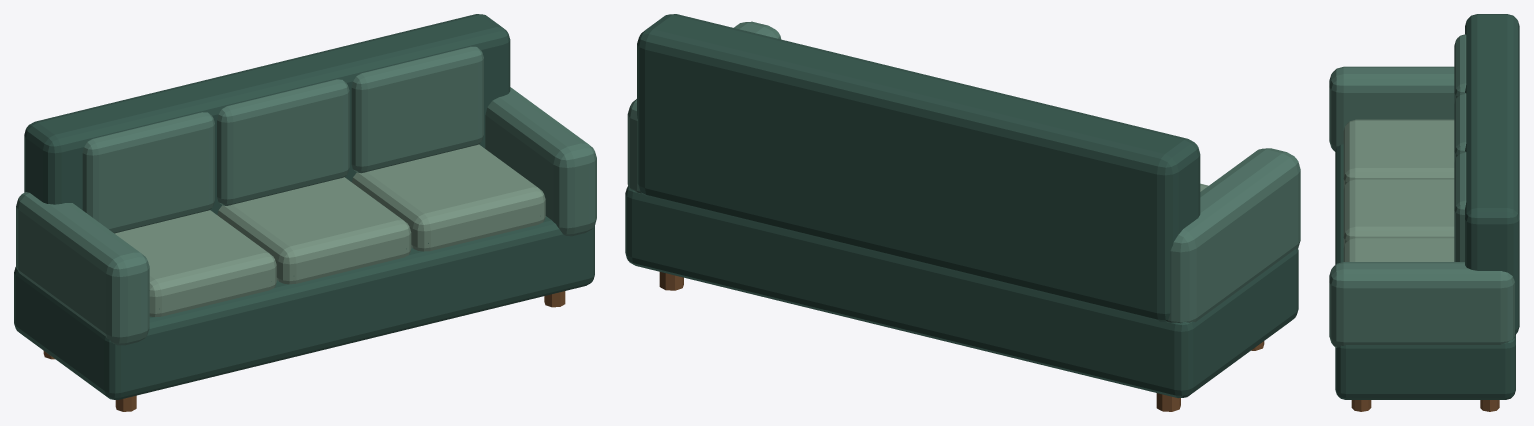
File: sofa_three.glb
3 views of the same model, side by side, from view 1: azimuth 30°, elevation 25°; view 2: azimuth 150°, elevation 25°; view 3: azimuth 270°, elevation 25° (orthographic). The views are drawn at different scales.
Parts seen in each view (by area): view 1: sofa_three__green_velvet, sofa_three__green_shadow, sofa_three__green_edge, sofa_three__oak_dark; view 2: sofa_three__green_shadow, sofa_three__green_velvet, sofa_three__oak_dark; view 3: sofa_three__green_shadow, sofa_three__green_velvet, sofa_three__green_edge, sofa_three__oak_dark.
Part boxes in pixels (bbox=[...]): sofa_three__green_velvet: bbox=[16, 46, 596, 345]; sofa_three__green_shadow: bbox=[14, 14, 594, 399]; sofa_three__green_edge: bbox=[114, 144, 545, 316]; sofa_three__oak_dark: bbox=[43, 291, 565, 411]; sofa_three__green_shadow: bbox=[625, 14, 1298, 398]; sofa_three__green_velvet: bbox=[627, 21, 1300, 323]; sofa_three__oak_dark: bbox=[659, 272, 1264, 411]; sofa_three__green_shadow: bbox=[1335, 14, 1519, 399]; sofa_three__green_velvet: bbox=[1329, 34, 1514, 347]; sofa_three__green_edge: bbox=[1343, 119, 1454, 261]; sofa_three__oak_dark: bbox=[1351, 400, 1499, 411].
Bounding box in the file's own units: 2.12 × 0.94 × 0.8.
